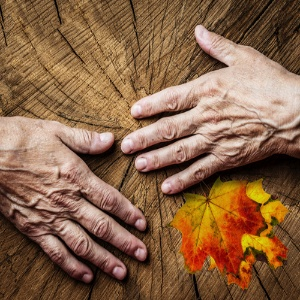hand: (120, 24, 300, 192), (1, 117, 147, 284)
